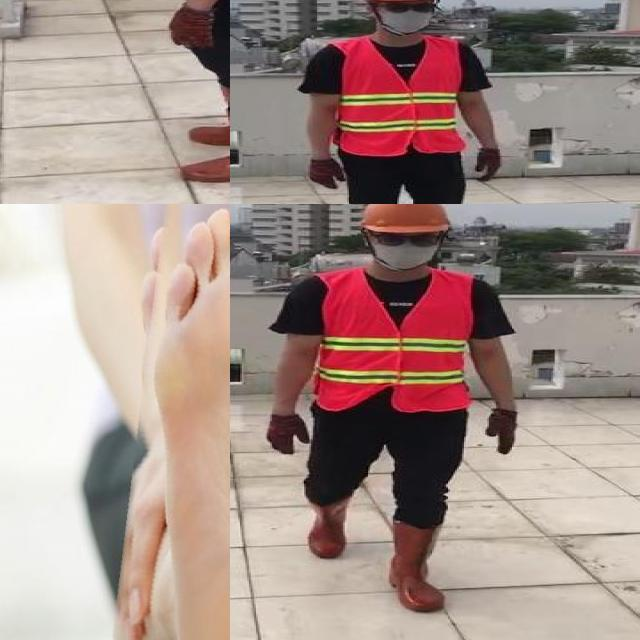Barefoots: (139, 204, 230, 640)
boots: (391, 520, 448, 613), (181, 108, 230, 181), (299, 498, 352, 558), (182, 83, 230, 149)
face_mask: (372, 230, 443, 269), (377, 0, 437, 35)
glasses: (370, 230, 448, 250), (374, 0, 440, 16)
hand_glove: (171, 6, 217, 48), (265, 414, 309, 454), (486, 409, 518, 456), (306, 160, 349, 189), (477, 149, 500, 184)
head_helmet: (358, 204, 452, 235)
person: (256, 204, 535, 624), (289, 0, 515, 204), (144, 0, 230, 188)
vest: (313, 271, 469, 410), (336, 38, 464, 154)
